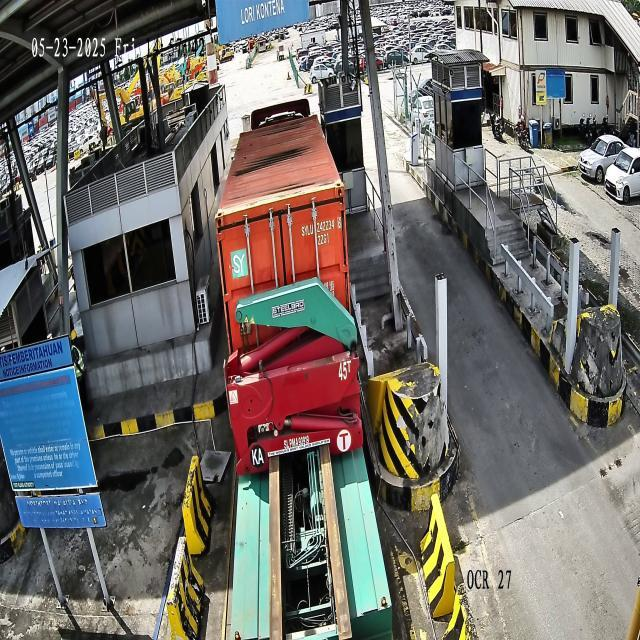ISO: (318, 232, 330, 246)
container_number: (300, 216, 342, 237)
